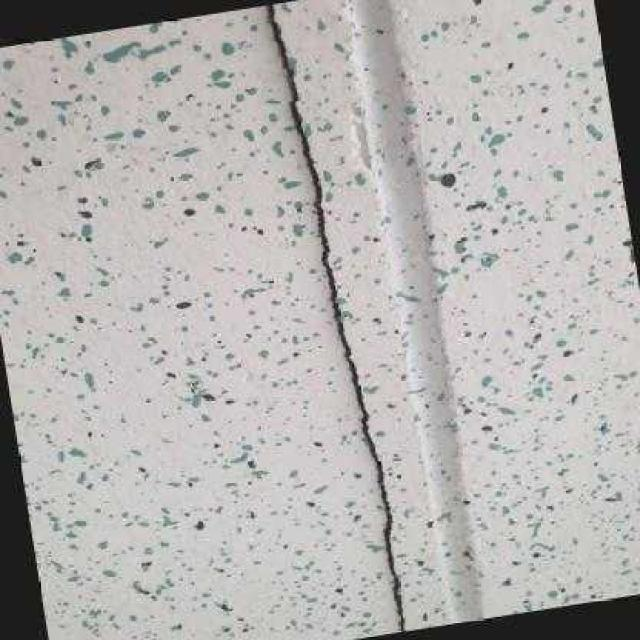D00: (262, 3, 406, 631)
